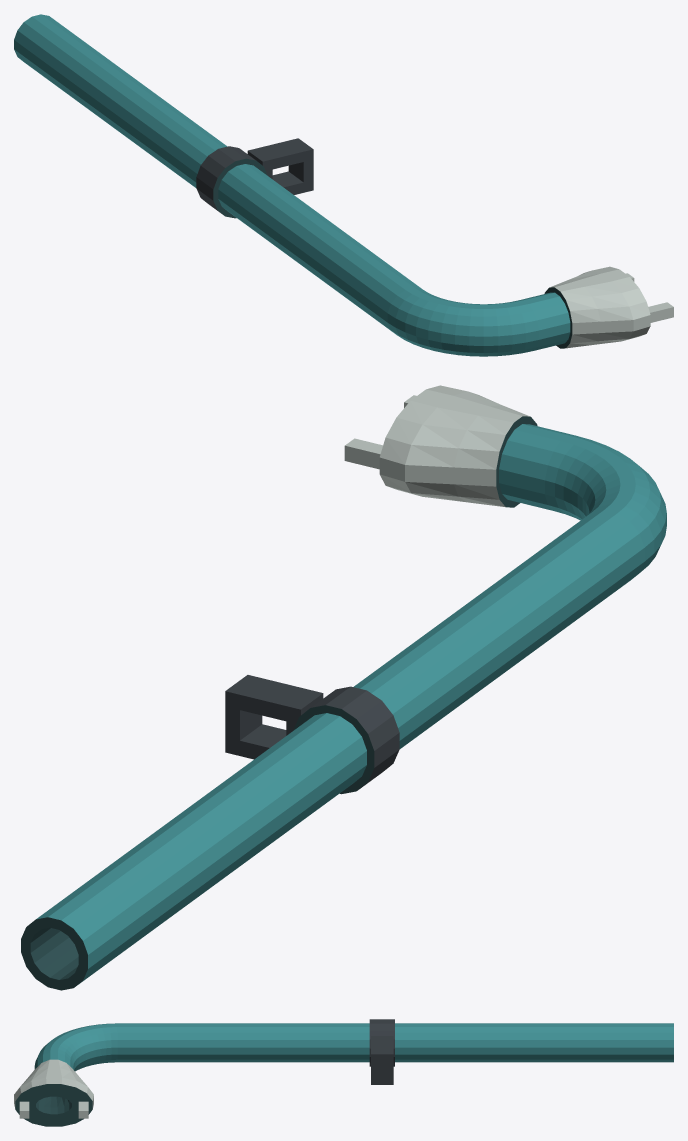
3 renders of one model, top to bottom at view 1: azimuth 30°, elevation 25°; view 2: azimuth 150°, elevation 25°; view 3: azimuth 270°, elevation 25°, orthographic. The views are drawn at different scales.
Parts seen in each view (by area): view 1: WholeOpenTubeAndContinuousLowerBend, WholeFlattenedOpenMouthpiece, WholeOpenRectangularKeeperLoop, WholeAnnularKeeperCollar; view 2: WholeOpenTubeAndContinuousLowerBend, WholeFlattenedOpenMouthpiece, WholeOpenRectangularKeeperLoop, WholeAnnularKeeperCollar, WholeBluntBiteTab_1; view 3: WholeOpenTubeAndContinuousLowerBend, WholeFlattenedOpenMouthpiece, WholeOpenRectangularKeeperLoop, WholeAnnularKeeperCollar, WholeBluntBiteTab_1, WholeBluntBiteTab_-1.
Part boxes in pixels (x1,y1,x2,y2): WholeOpenTubeAndContinuousLowerBend: (14,14,570,356); WholeFlattenedOpenMouthpiece: (544,266,650,348); WholeOpenRectangularKeeperLoop: (247,138,313,194); WholeAnnularKeeperCollar: (196,146,267,218); WholeOpenTubeAndContinuousLowerBend: (21,424,666,990); WholeFlattenedOpenMouthpiece: (379,385,537,507); WholeOpenRectangularKeeperLoop: (225,675,323,759); WholeAnnularKeeperCollar: (293,686,399,794); WholeBluntBiteTab_1: (344,438,382,469); WholeOpenTubeAndContinuousLowerBend: (34,1023,673,1071); WholeFlattenedOpenMouthpiece: (14,1059,93,1126); WholeOpenRectangularKeeperLoop: (371,1036,393,1084); WholeAnnularKeeperCollar: (369,1019,394,1066); WholeBluntBiteTab_1: (78,1101,88,1118); WholeBluntBiteTab_-1: (19,1101,29,1118).
Bounding box in the file's own units: 0.1377 × 0.0333 × 0.4684.
